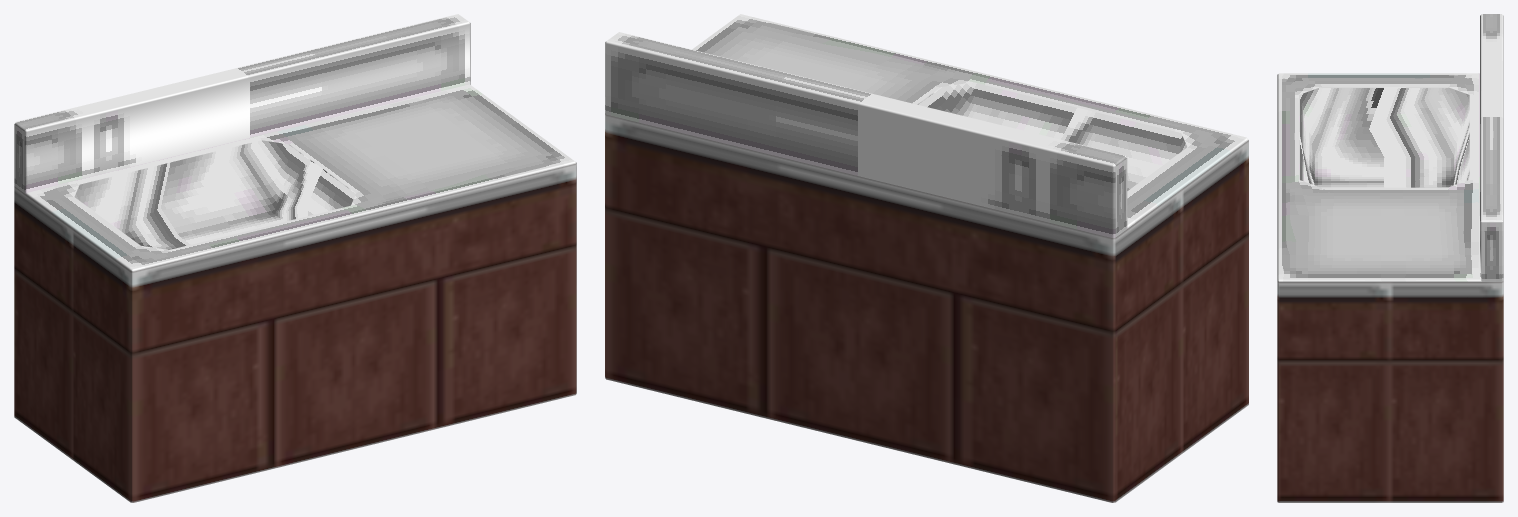
The model's file is int_oth_sink.dae.
3 renders of one model, left to right at view 1: azimuth 30°, elevation 25°; view 2: azimuth 150°, elevation 25°; view 3: azimuth 270°, elevation 25°, orthographic. The views are drawn at different scales.
Parts seen in each view (by area): view 1: int_oth_sink; view 2: int_oth_sink; view 3: int_oth_sink.
Boxes of the visible parts, x1,y1,x2,y2 form: int_oth_sink: (14, 14, 576, 502); int_oth_sink: (605, 14, 1248, 502); int_oth_sink: (1277, 14, 1503, 502).
Bounding box in the file's own units: 60.81 × 38.47 × 28.
Materials: 3 (3 with a texture image).
